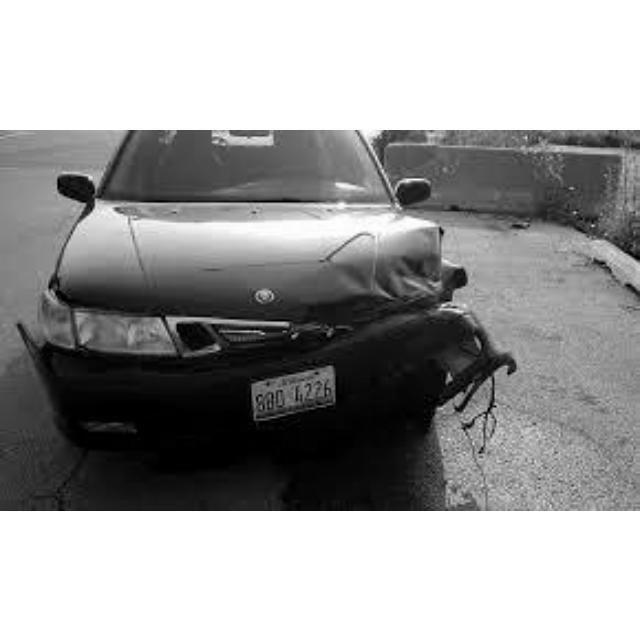bonnet-dent: (232, 205, 448, 306)
front-bumper-dent: (283, 302, 463, 405)
